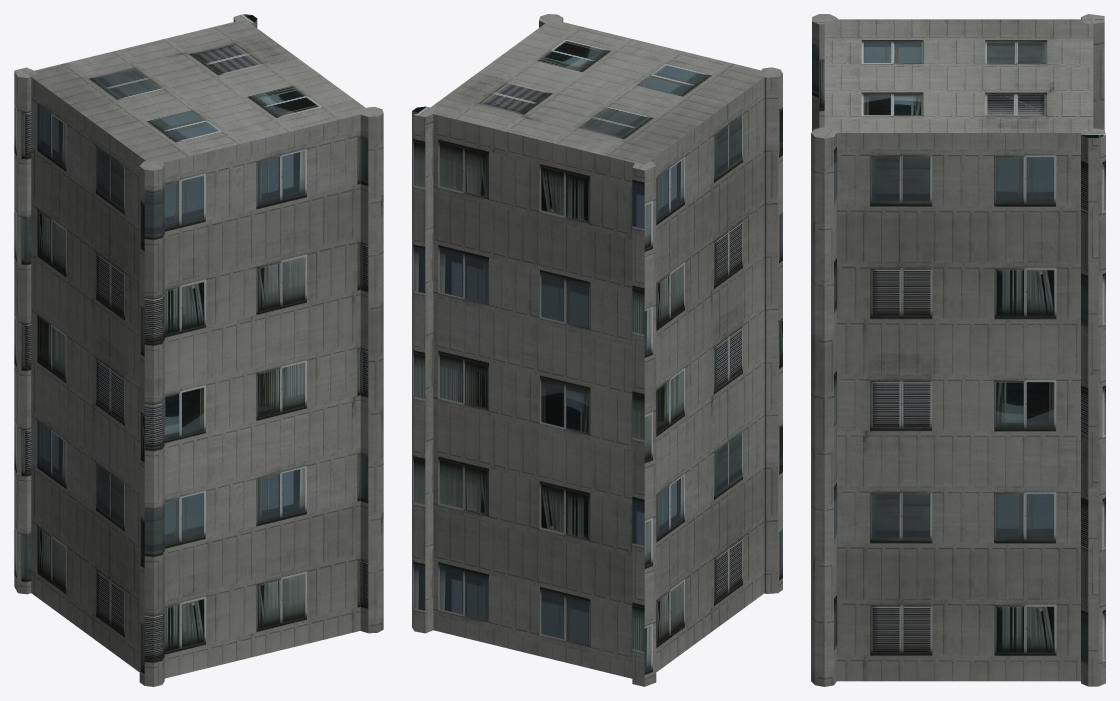
File: middle3.dae
The picture shows the model from 3 angles, left to right: view 1: azimuth 30°, elevation 25°; view 2: azimuth 150°, elevation 25°; view 3: azimuth 270°, elevation 25°; orthographic projection. The views are drawn at different scales.
Visible parts, largest first — view 1: Cylinder_001; view 2: Cylinder_001; view 3: Cylinder_001.
Boxes of the visible parts, x1=… form: Cylinder_001: x1=14, y1=14, x2=383, y2=686; Cylinder_001: x1=412, y1=14, x2=782, y2=686; Cylinder_001: x1=811, y1=14, x2=1105, y2=686.
Bounding box in the file's own units: 4.38 × 4.38 × 9.
Materials: 1 (1 with a texture image).
